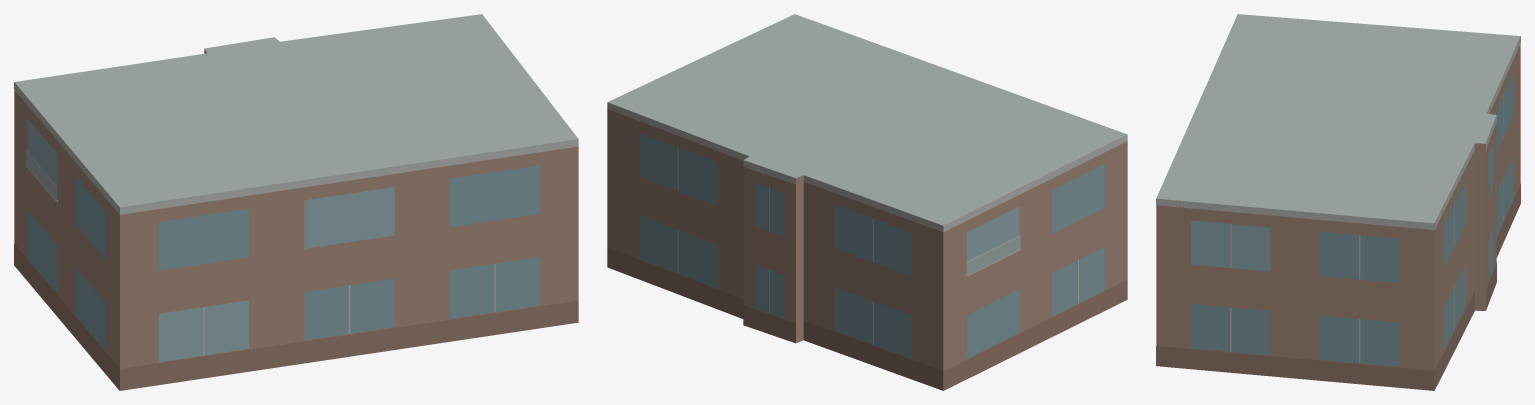
File: survey-upis-32975953.glb
3 renders of one model, left to right at view 1: azimuth 30°, elevation 25°; view 2: azimuth 150°, elevation 25°; view 3: azimuth 270°, elevation 25°, orthographic. The views are drawn at different scales.
Parts seen in each view (by area): view 1: survey-upis-32975953.tmp; view 2: survey-upis-32975953.tmp; view 3: survey-upis-32975953.tmp.
Part boxes in pixels (x1=…): survey-upis-32975953.tmp: x1=14, y1=14, x2=578, y2=390; survey-upis-32975953.tmp: x1=607, y1=14, x2=1127, y2=390; survey-upis-32975953.tmp: x1=1156, y1=14, x2=1520, y2=390.
Size of the model in its own units: 16.37 by 6.1 by 12.05.
